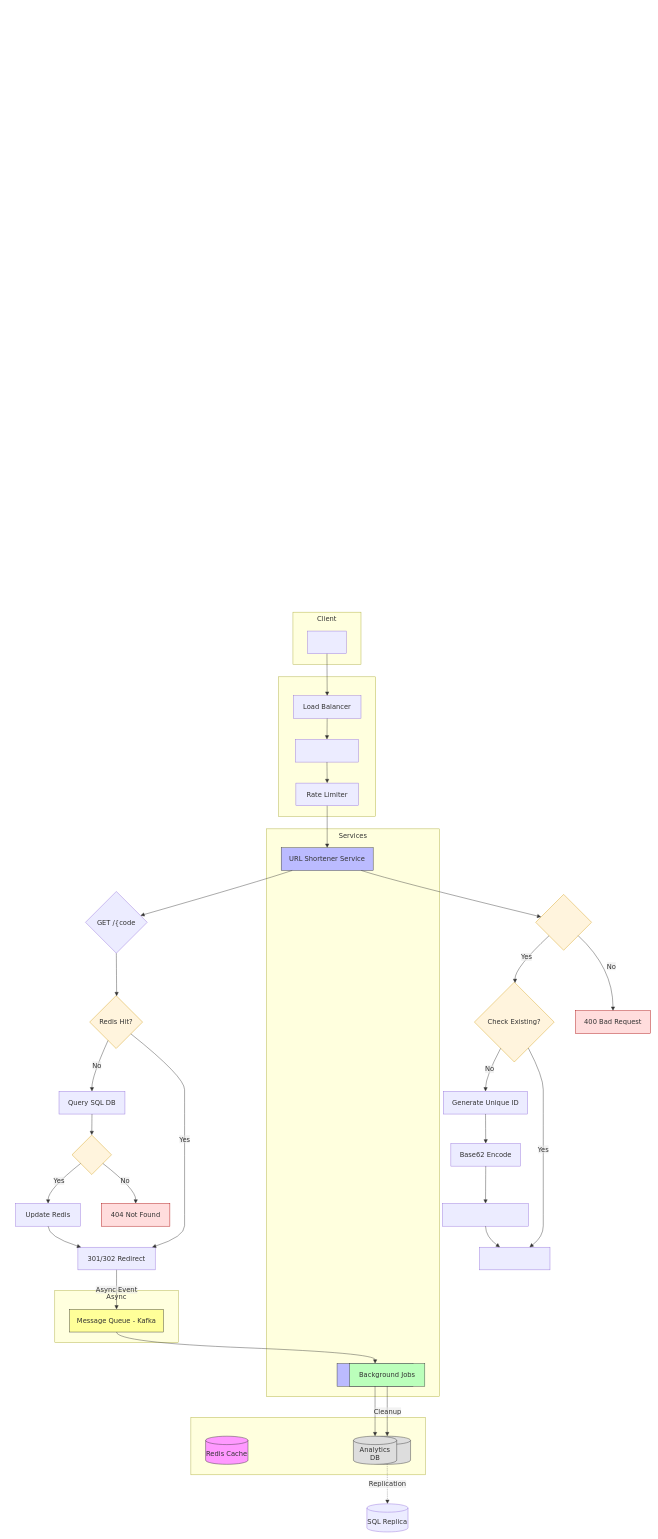
This 658x1539 diagram has some shape labels left out. Here are the shapes that lost their labels. From the top down, the box of each, then its label:
(307, 631, 346, 654): User
(295, 739, 358, 762): API Gateway
(278, 676, 376, 816): Infrastructure
(535, 894, 592, 950): Valid URL?
(72, 1135, 112, 1175): Found?
(442, 1203, 529, 1226): Store in Redis & SQL
(479, 1247, 550, 1270): Return Existing
(337, 1363, 413, 1386): Analytics Service
(190, 1417, 425, 1475): Storage
(364, 1436, 411, 1464): SQL Database
